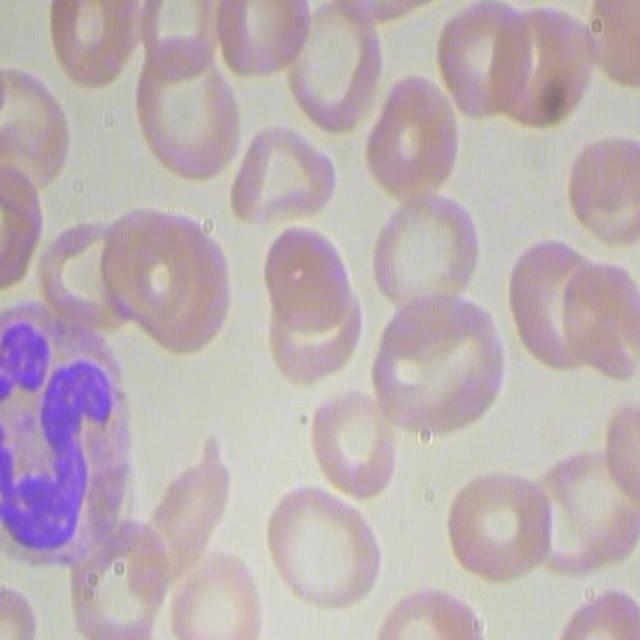RBC: (368, 290, 504, 446), (97, 202, 230, 358), (502, 234, 639, 381), (434, 0, 584, 130), (260, 218, 362, 387), (264, 484, 383, 621), (280, 0, 382, 146), (136, 46, 240, 187), (368, 190, 482, 317), (136, 451, 228, 597), (442, 465, 545, 590), (69, 518, 173, 639), (228, 127, 336, 237), (364, 76, 458, 201), (307, 384, 398, 500), (158, 544, 264, 638), (198, 0, 310, 87), (42, 218, 120, 336), (0, 68, 71, 194), (565, 136, 637, 250), (44, 0, 134, 84), (373, 580, 487, 640), (134, 0, 226, 72), (0, 150, 42, 292), (557, 578, 640, 640), (584, 0, 640, 85)
WBC: (0, 294, 132, 578)
